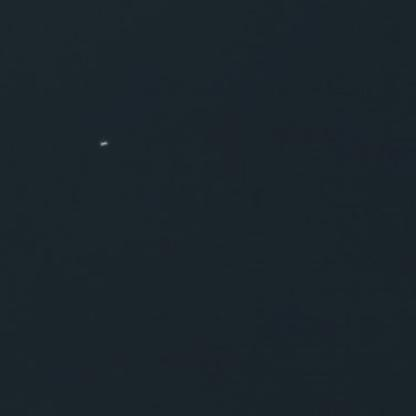ship: (79, 121, 93, 130)
